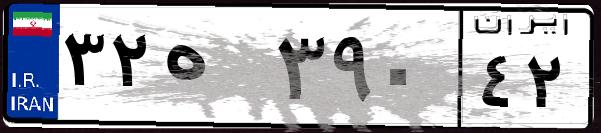0: (385, 28, 445, 110)
2: (525, 38, 570, 115), (110, 28, 158, 98)
3: (270, 28, 330, 110), (57, 26, 110, 100)
4: (475, 38, 525, 113)
9: (330, 28, 385, 110)
ه: (158, 20, 270, 120)
